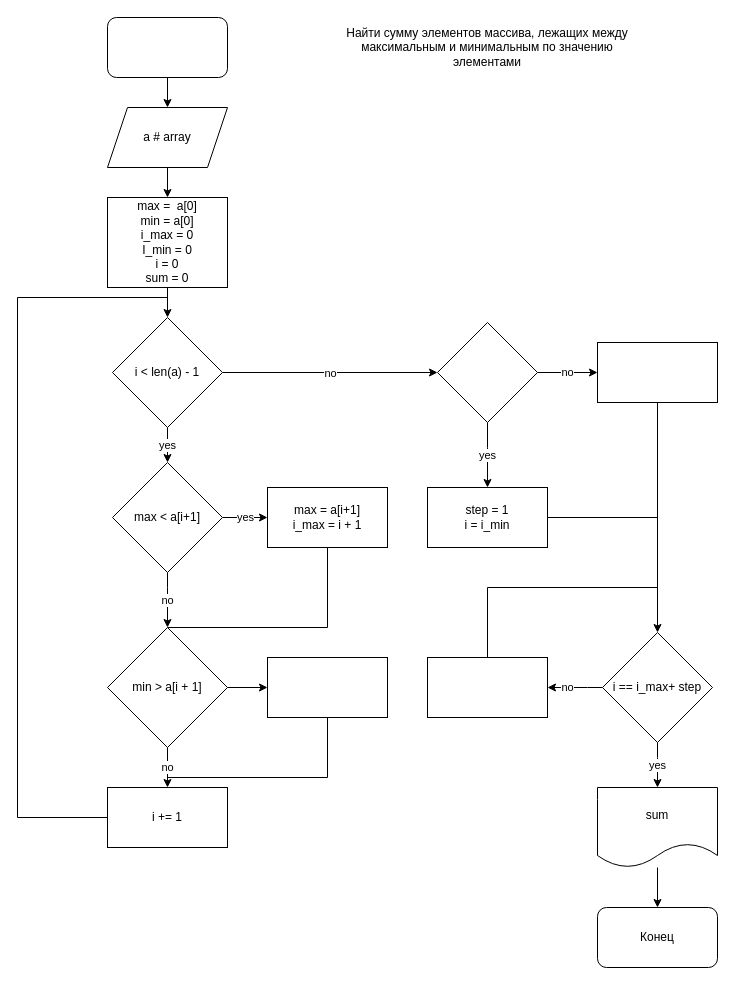
Some shapes in this 735 by 985 pixel diagram are drawn without their labels. The box of each missing label's shape, as (x1, y1, x2, y2) in pixels:
i_min < i_max: (436, 322, 538, 422)
min = a[i+1] i_min = i + 1: (266, 656, 388, 718)
step = -1 i = i_min: (596, 342, 718, 402)
sum += a[i] i += 1: (426, 656, 548, 718)
Начало: (106, 16, 228, 78)
